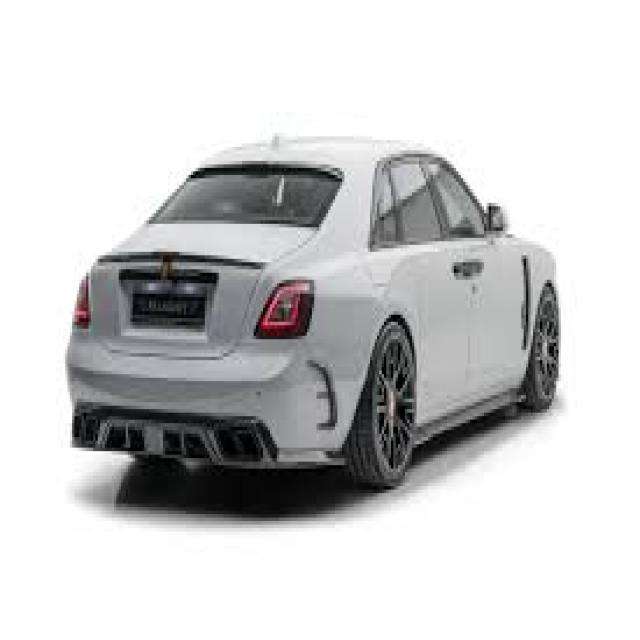cars: (49, 123, 573, 513)
